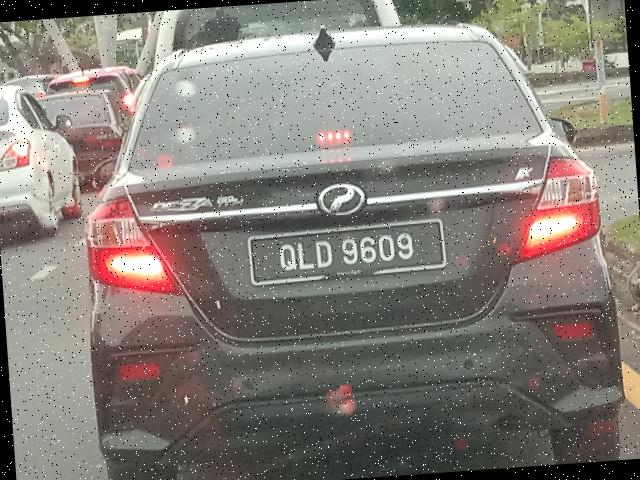License_Plate: (247, 219, 449, 290)
car: (63, 13, 640, 480)
